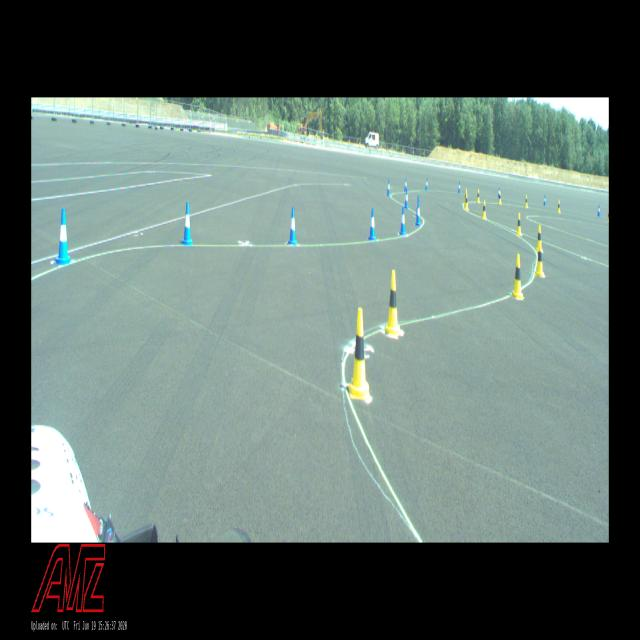blue_cone: (54, 208, 72, 266), (182, 202, 193, 245), (287, 207, 297, 245), (369, 208, 376, 241), (400, 207, 406, 235), (415, 200, 421, 226), (416, 196, 420, 217), (404, 189, 408, 209), (387, 180, 390, 196), (404, 178, 407, 191), (425, 178, 428, 191), (458, 182, 461, 194), (598, 204, 600, 217), (544, 195, 546, 206), (498, 188, 500, 197)
yellow_cone: (348, 308, 370, 400), (385, 270, 400, 334), (512, 254, 523, 300), (535, 242, 544, 278), (536, 226, 542, 251), (517, 213, 522, 236), (482, 200, 486, 219), (465, 195, 468, 210), (464, 190, 467, 204), (525, 195, 528, 208), (477, 190, 480, 202), (558, 200, 560, 212), (499, 192, 501, 204), (608, 212, 608, 222)
